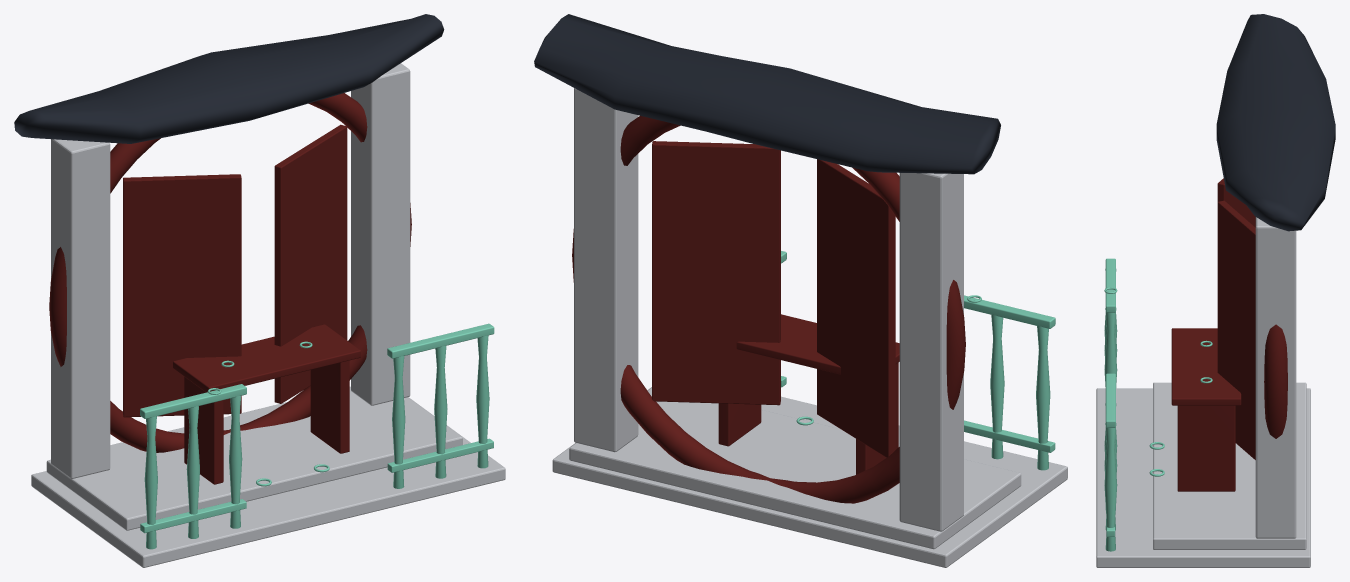
Rendered from webtoon-articulated-murim-lattice-moongate-v20.glb.
3 renders of one model, left to right at view 1: azimuth 30°, elevation 25°; view 2: azimuth 150°, elevation 25°; view 3: azimuth 270°, elevation 25°, orthographic. The views are drawn at different scales.
Visible parts, largest first — view 1: MurimV20_GranitePlinth, Articulated_LatticeShutter_L, MurimV20_TiledEave, MurimV20_MoonGateAndTable, Articulated_LatticeShutter_R, MurimV20_JadeRailingAndIkSockets; view 2: MurimV20_GranitePlinth, MurimV20_TiledEave, Articulated_LatticeShutter_R, Articulated_LatticeShutter_L, MurimV20_MoonGateAndTable, MurimV20_JadeRailingAndIkSockets; view 3: MurimV20_GranitePlinth, MurimV20_TiledEave, MurimV20_MoonGateAndTable, Articulated_LatticeShutter_R, MurimV20_JadeRailingAndIkSockets, Articulated_LatticeShutter_L.
Boxes of the visible parts, box(x1,y1,x2,y2) form: MurimV20_GranitePlinth: box(31, 63, 505, 567); Articulated_LatticeShutter_L: box(123, 174, 241, 417); MurimV20_TiledEave: box(14, 14, 444, 143); MurimV20_MoonGateAndTable: box(49, 93, 411, 484); Articulated_LatticeShutter_R: box(274, 124, 347, 403); MurimV20_JadeRailingAndIkSockets: box(140, 323, 494, 549); MurimV20_GranitePlinth: box(552, 88, 1067, 567); MurimV20_TiledEave: box(534, 14, 1000, 174); Articulated_LatticeShutter_R: box(652, 141, 780, 405); Articulated_LatticeShutter_L: box(817, 159, 895, 457); MurimV20_MoonGateAndTable: box(572, 115, 965, 503); MurimV20_JadeRailingAndIkSockets: box(781, 251, 1055, 470); MurimV20_GranitePlinth: box(1096, 217, 1310, 567); MurimV20_TiledEave: box(1216, 14, 1335, 231); MurimV20_MoonGateAndTable: box(1171, 324, 1287, 491); Articulated_LatticeShutter_R: box(1217, 200, 1255, 459); MurimV20_JadeRailingAndIkSockets: box(1104, 258, 1212, 551); Articulated_LatticeShutter_L: box(1217, 178, 1255, 227).
Size of the model in its own units: 3.12 by 2.88 by 1.65.
